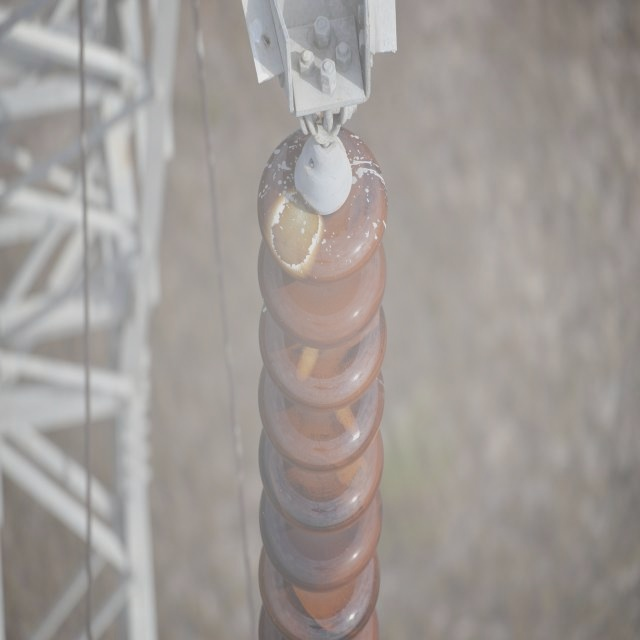insulator: (251, 125, 390, 639)
